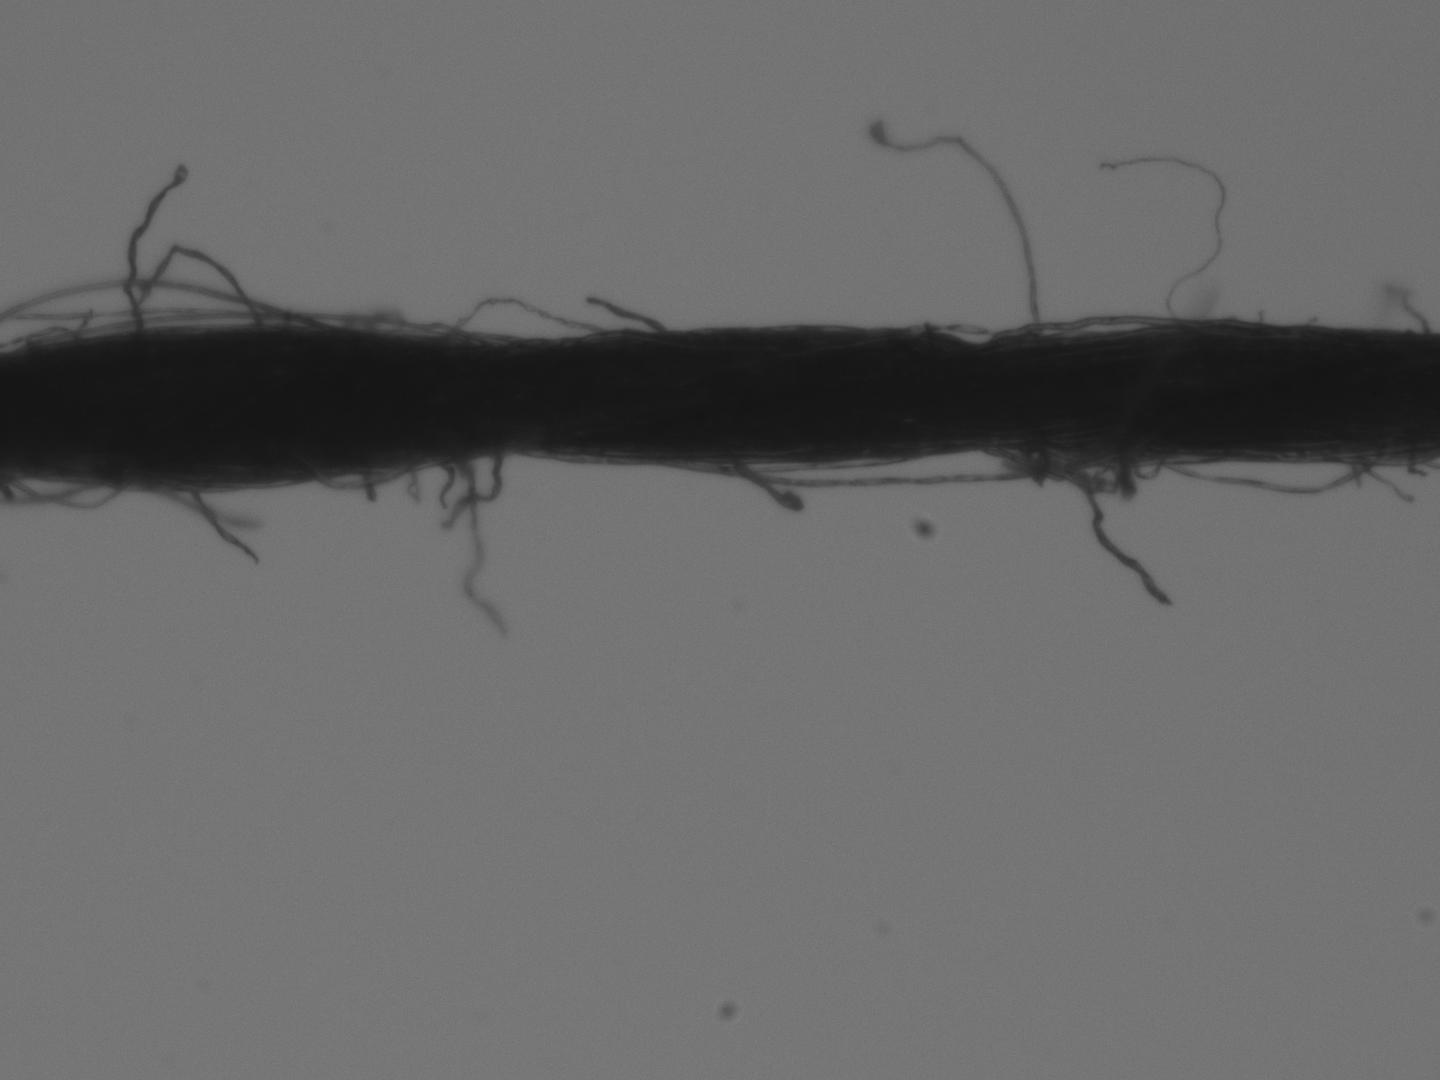loop_fiber: (5, 307, 472, 355), (688, 445, 1042, 489), (129, 245, 257, 337), (1155, 457, 1362, 497), (448, 294, 594, 346), (986, 445, 1121, 489), (1002, 313, 1196, 343), (7, 478, 115, 506), (5, 473, 87, 505), (916, 314, 1006, 341), (313, 462, 401, 488), (1128, 450, 1164, 479), (26, 327, 74, 348)
protruding_fiber: (864, 121, 1045, 329), (1047, 450, 1168, 614), (126, 166, 192, 334), (458, 453, 508, 635), (186, 482, 265, 567), (729, 458, 805, 520), (591, 292, 671, 339)
